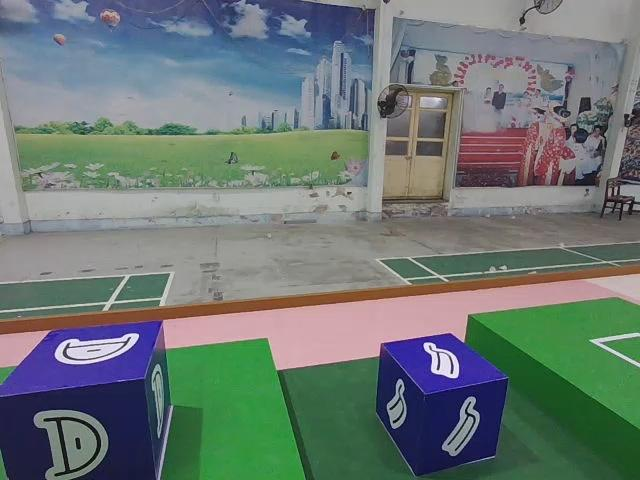R2 Real Blue: (2, 323, 171, 480), (375, 335, 506, 480)
